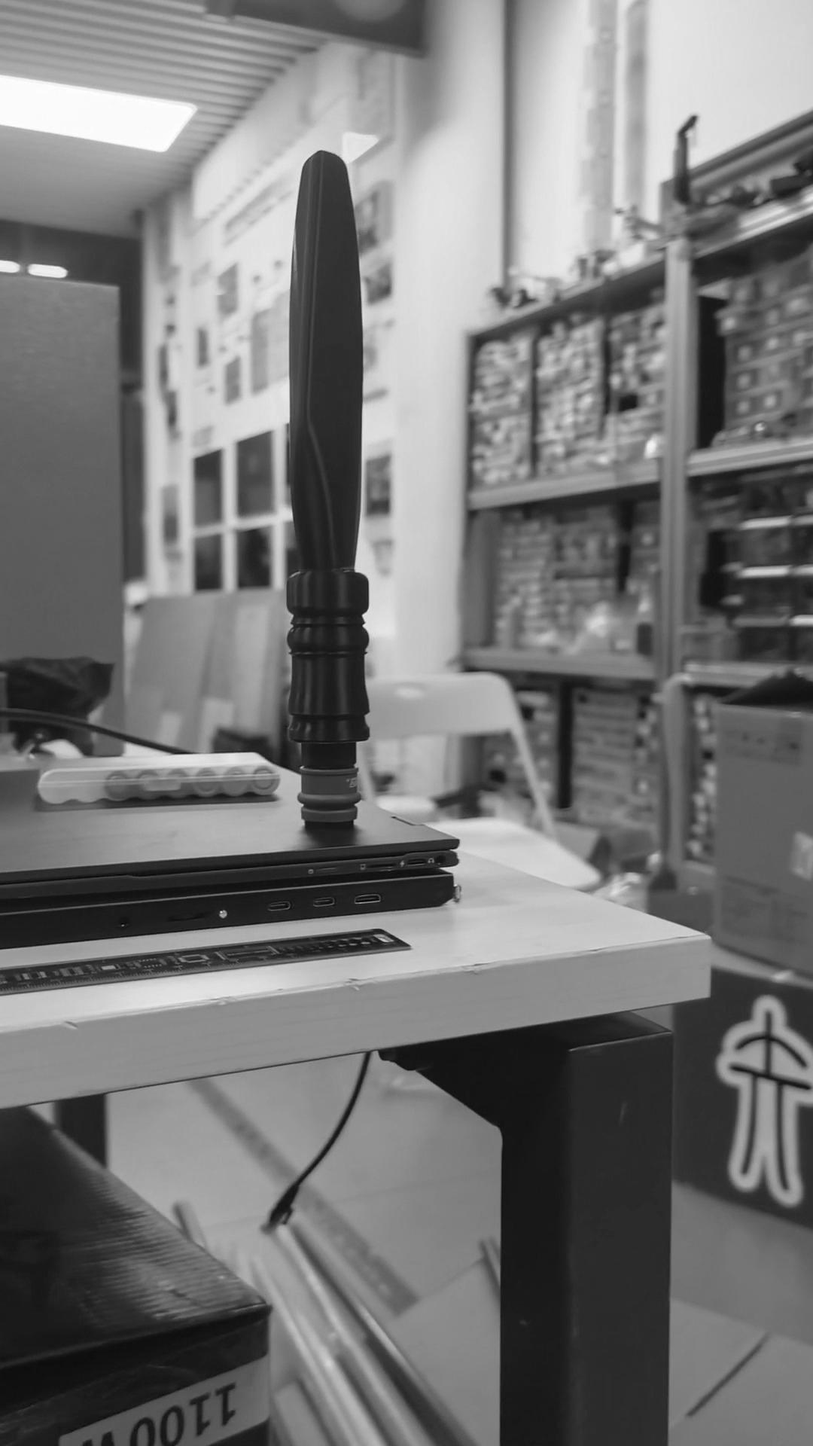base: (298, 765, 361, 821)
